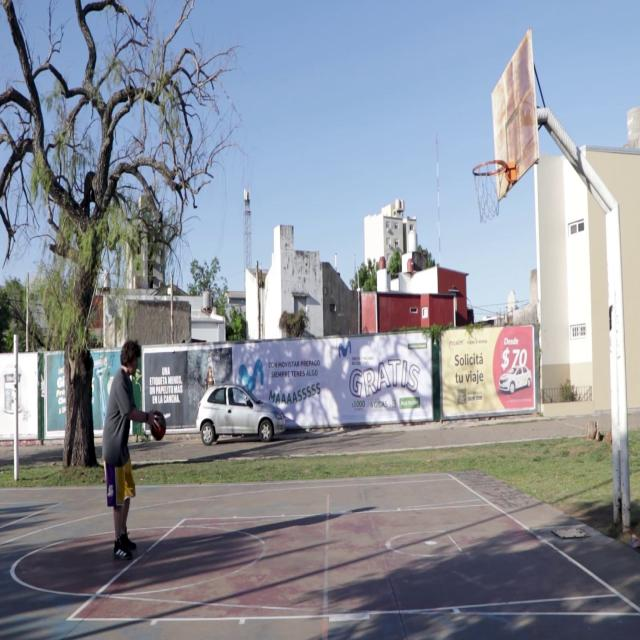ball: (150, 411, 167, 442)
